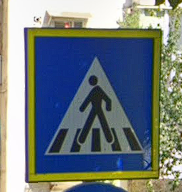trecere_pietoni: (22, 25, 161, 181)
